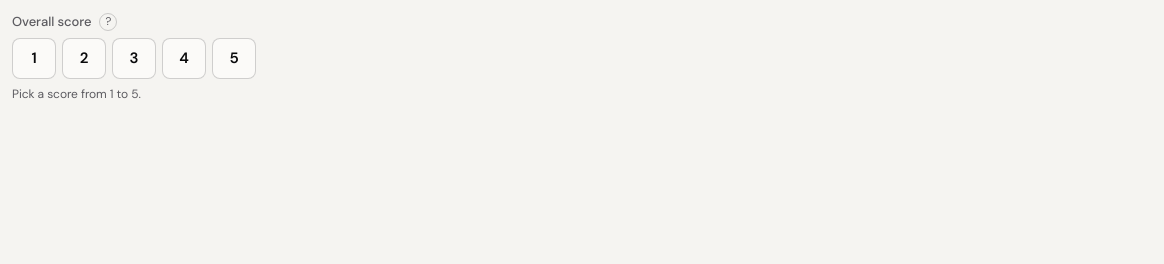
the full-scale popover › toggles closed again
This screenshot has width=1164, height=264.
Click the button named "What the scores mean".
click(108, 22)  # box [99, 13, 117, 31]
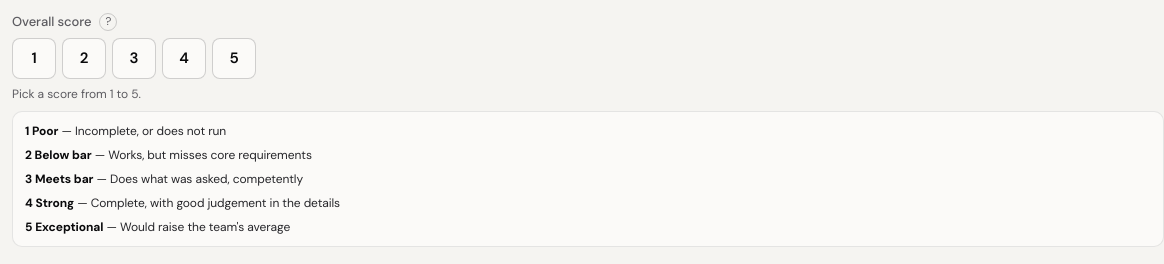
Click the button named "What the scores mean".
click(108, 22)  # box [99, 13, 117, 31]
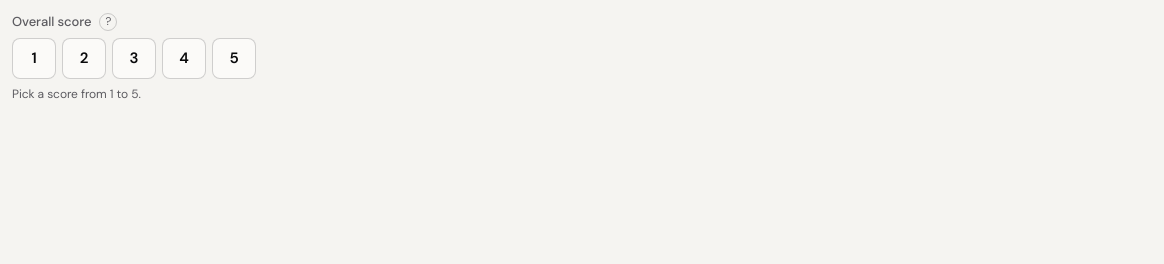
expect the list item "Incomplete, or does not run" is gone: met
